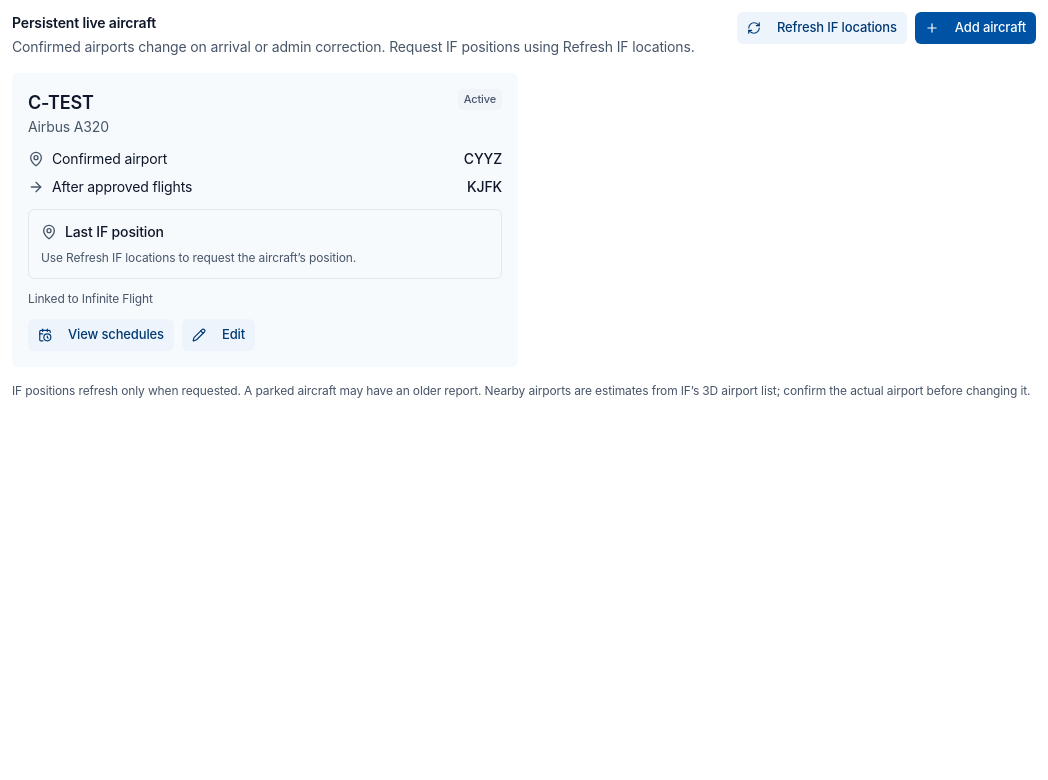
Test: admin-requested fleet positions › keeps old positions visible with a warning after sixty seconds, without polling
Click the button "Refresh IF locations": (822, 28) [737,12,907,44]
Wait 960001 ms
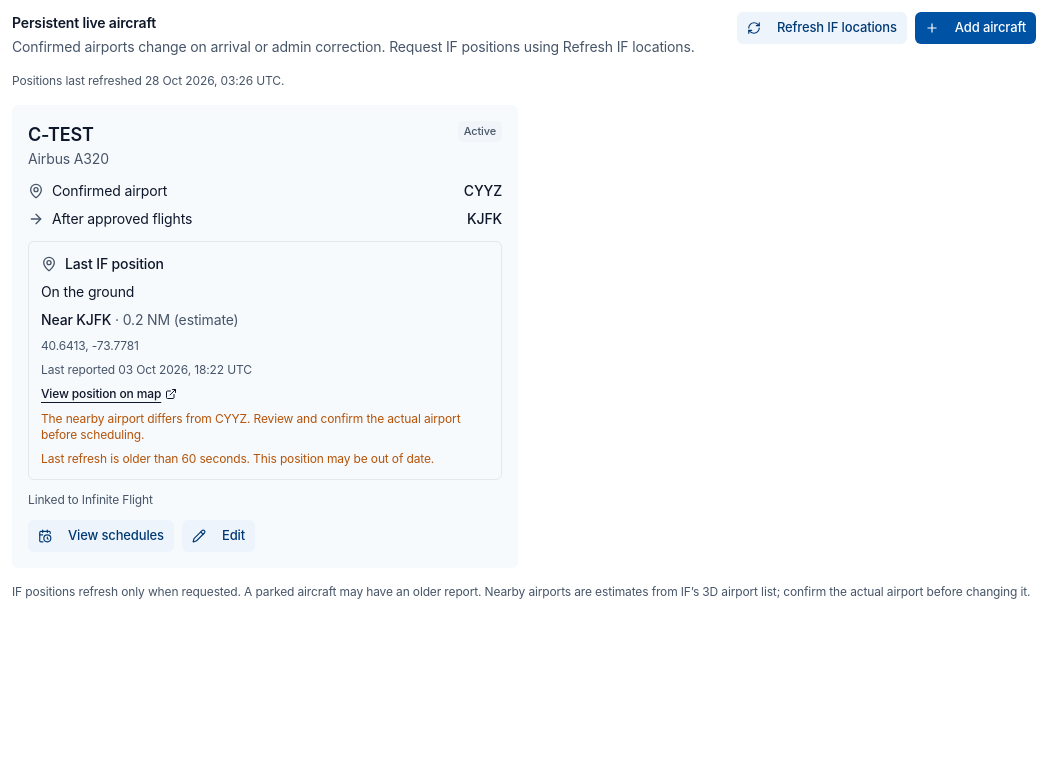
Now the text "40.6413, -73.7781" is shown, box [41,338,139,353]
Now the text "Last refresh is older than 60 seconds" is shown, box [41,451,434,466]
Click the button "Refresh IF locations": (822, 28) [737,12,907,44]
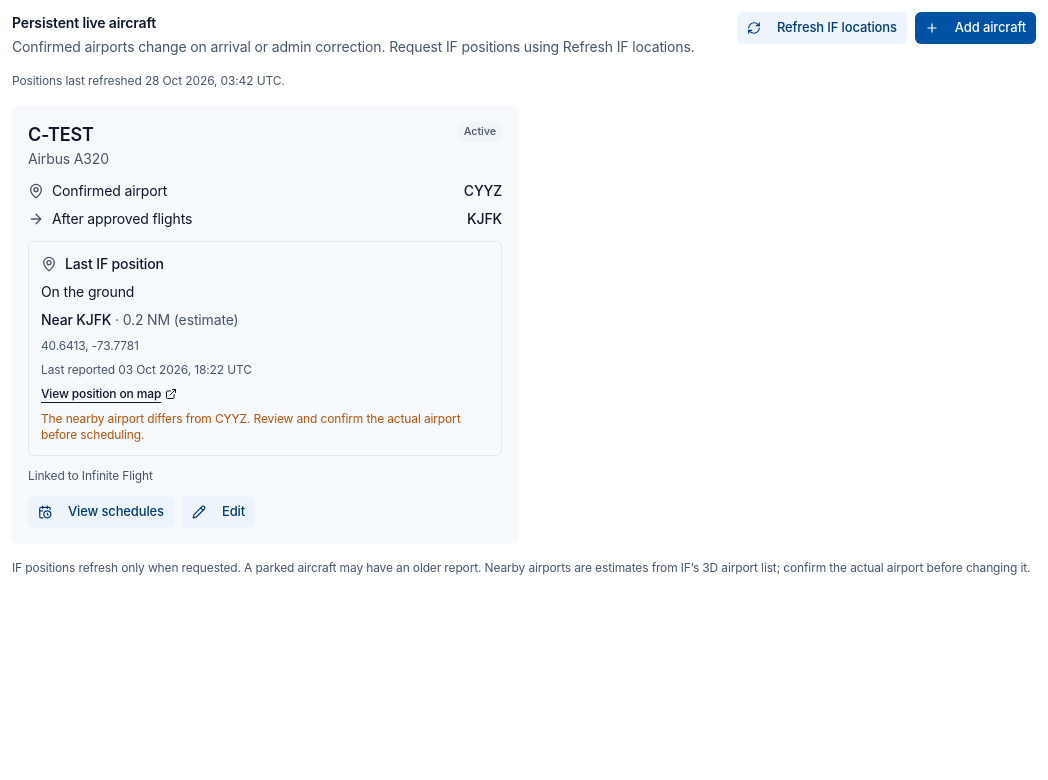
Now the text "Last refresh is older than 60 seconds" is gone
